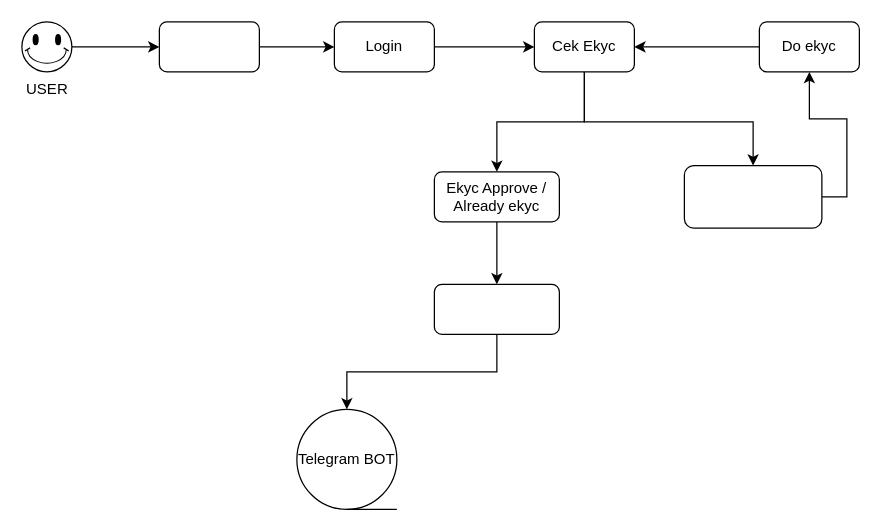
Some shapes in this 881 by 531 pixel diagram are drawn without their labels. The shapes that lost their labels are listed below. From the top down, each one's centre as x and y in pixels, then its label:
At pixel 208 46: "Register".
At pixel 752 196: "Ekyc Not Approve / Not Yet ekyc".
At pixel 496 308: "Profile Auth".
